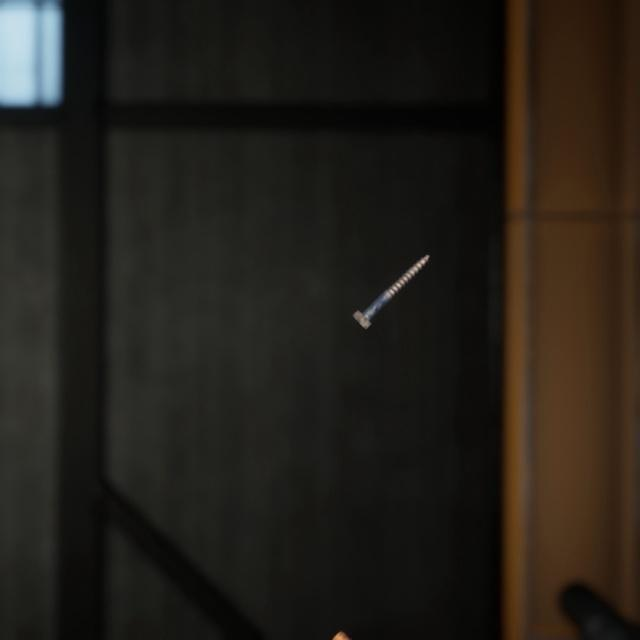bolt: (347, 234, 434, 318), (326, 603, 378, 640)
